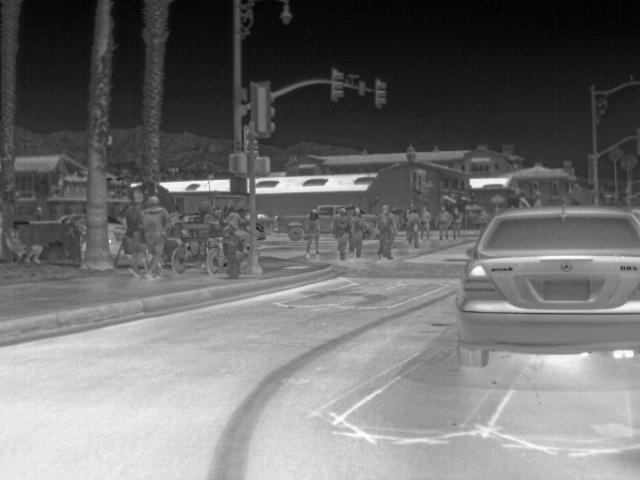car: (459, 204, 638, 370), (276, 214, 305, 240)
person: (143, 195, 171, 276), (125, 184, 147, 276), (220, 204, 252, 253), (303, 207, 324, 254), (351, 205, 368, 256), (333, 207, 350, 257), (403, 208, 423, 250), (377, 214, 396, 258), (378, 205, 398, 231), (438, 205, 452, 242), (451, 208, 466, 241), (421, 206, 434, 237)
